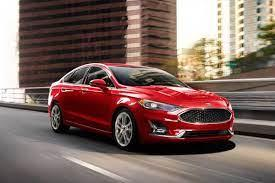car: (45, 59, 241, 151)
